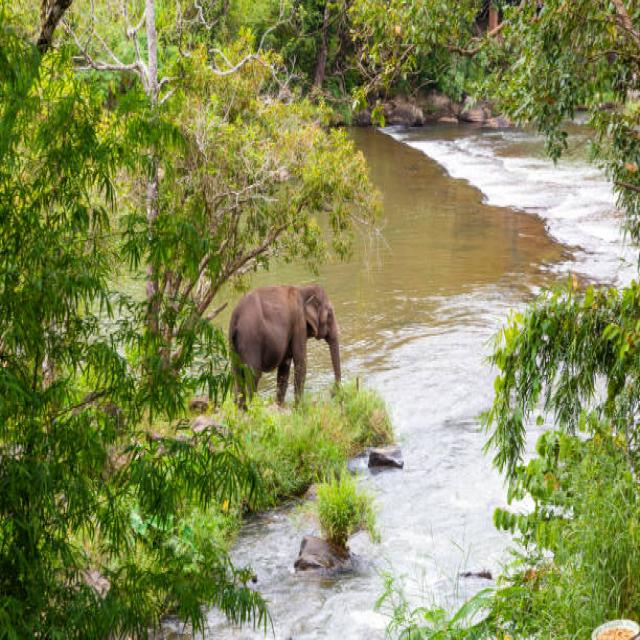Elephant: (229, 278, 351, 409)
